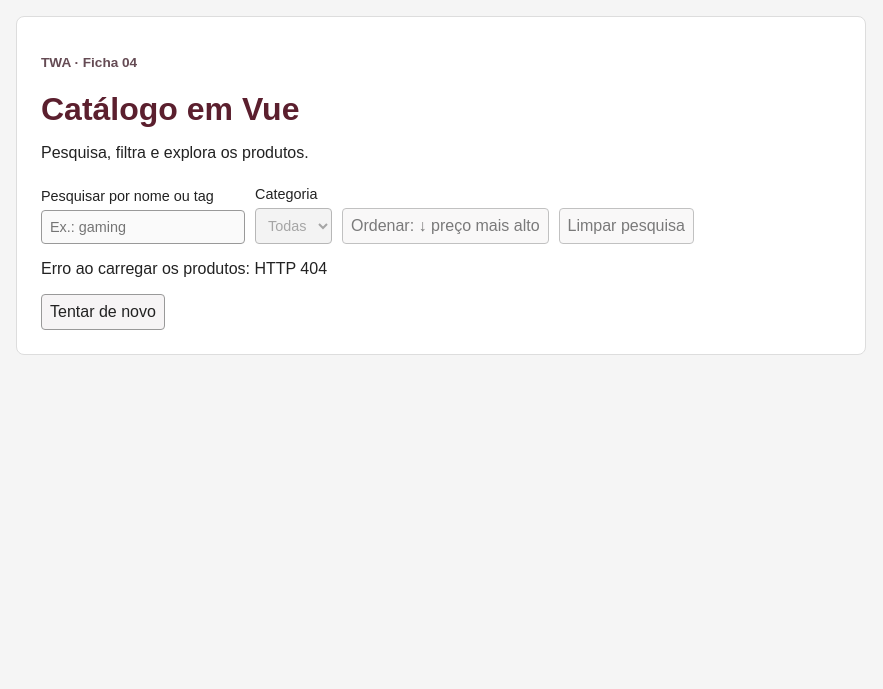
Scenario: Catálogo em Vue › trata HTTP 404 e recupera com Tentar de novo
This screenshot has width=883, height=689.
Expected: the message "Erro ao carregar os produtos: HTTP 404 Tentar de novo" is shown, [41,260,327,330]
Click the button "Tentar de novo". click: (103, 312)
box: [41,294,165,330]
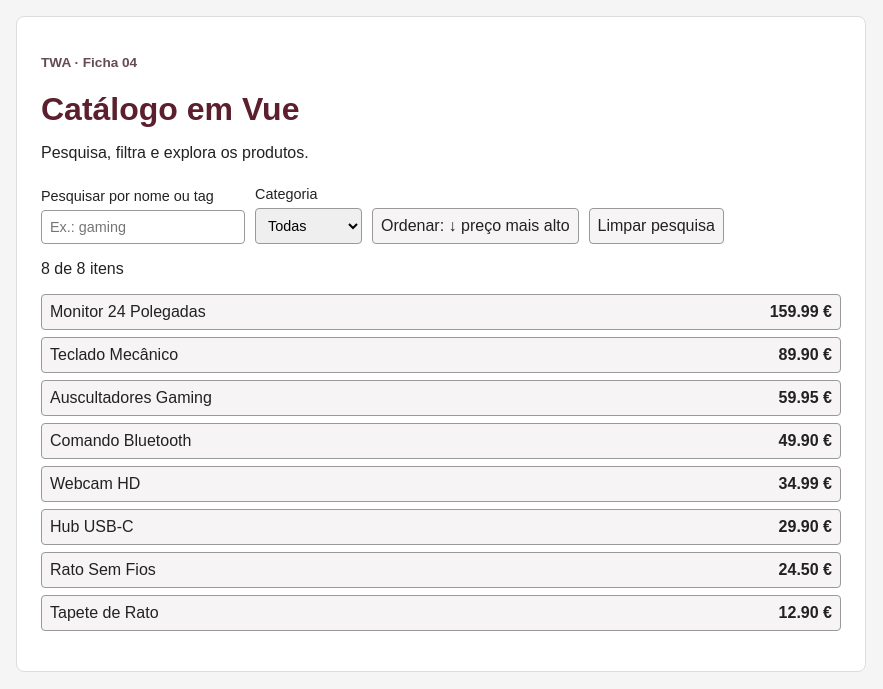
Now the number of list items is 8
